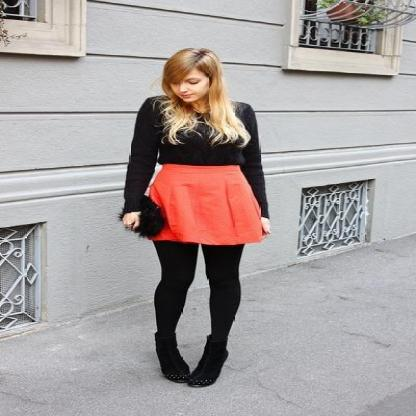bag: (118, 197, 166, 236)
jacket: (112, 96, 268, 218)
shoe: (162, 362, 218, 387)
skirt: (145, 164, 270, 257)
